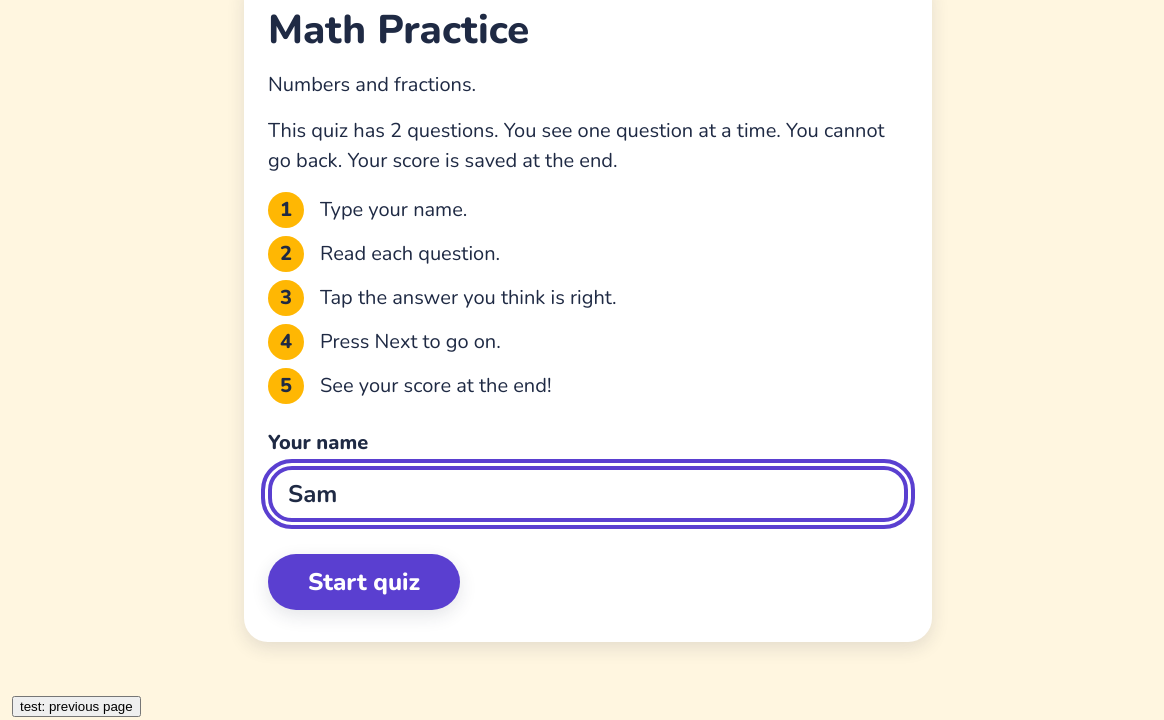
Scenario: QuestionPage › shows the server error on a failed submission, keeps the answers and can try again
Earlier steps of the test are not shown.
(page scrolled)
Click the button "Start quiz" at (364, 582), box [268,554,460,610]
(page scrolled)
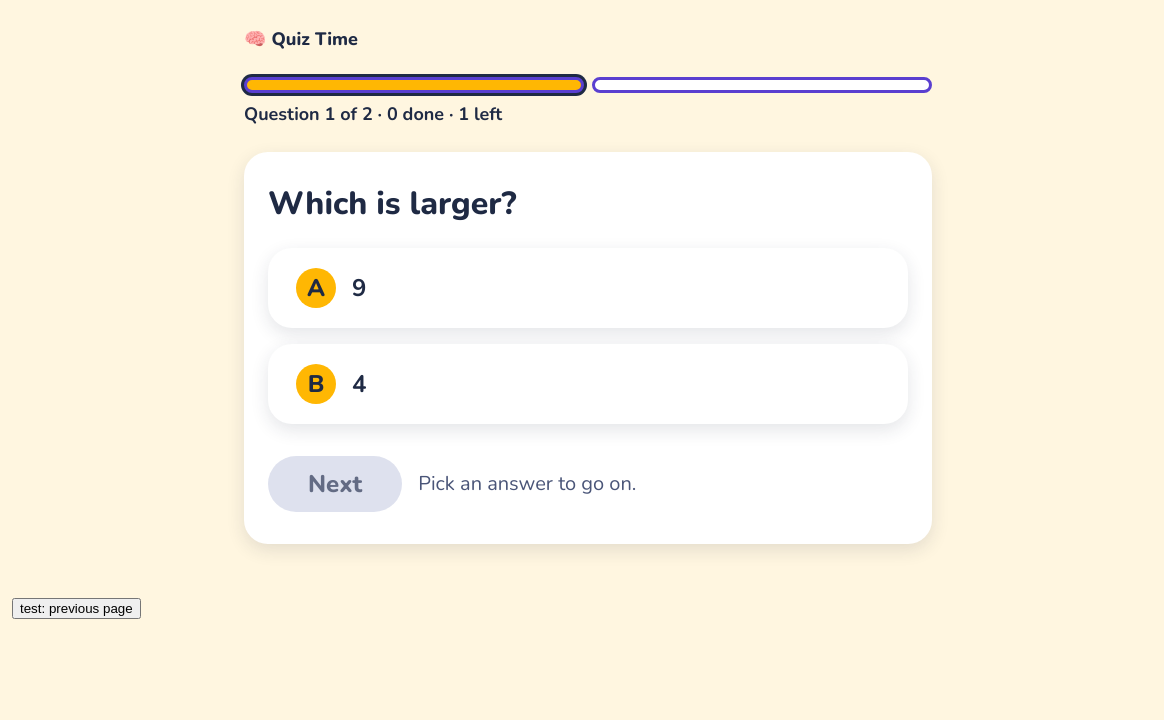
Now the text "Question 1 of 2 · 0 done · 1 left" is shown, box [244,102,502,126]
Click the radio button labelled "A 9" at (316, 288), box [268,248,908,328]
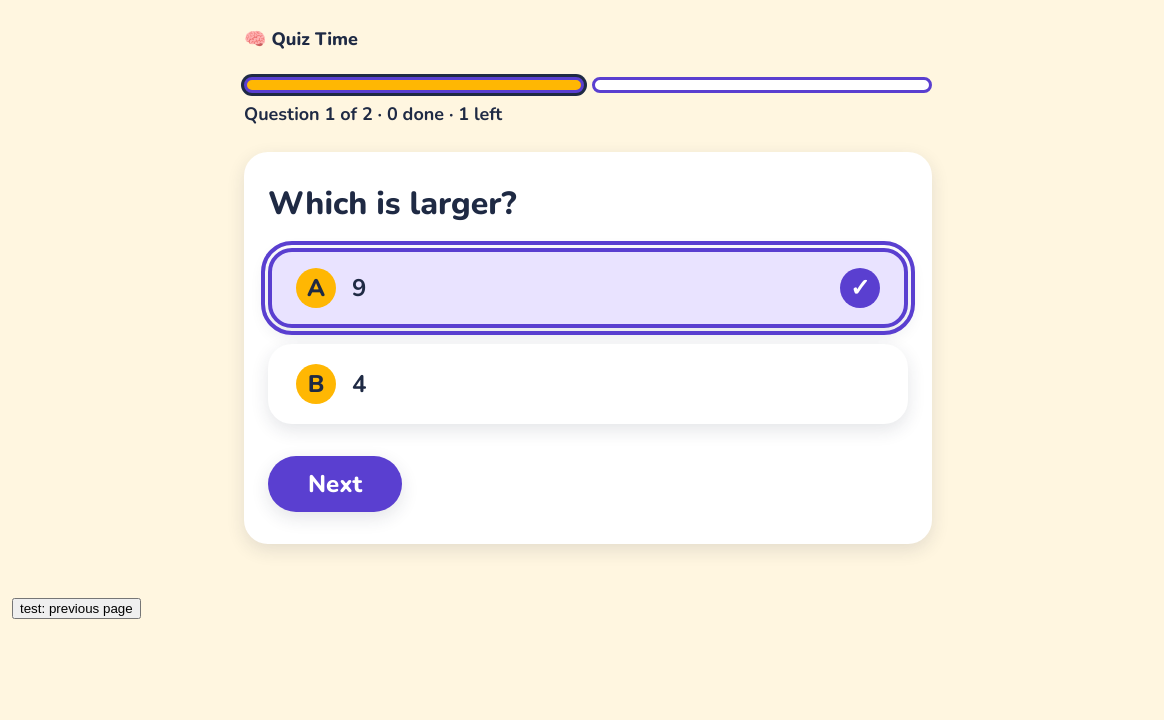
Click the button "Next" at (335, 484), box [268,456,402,512]
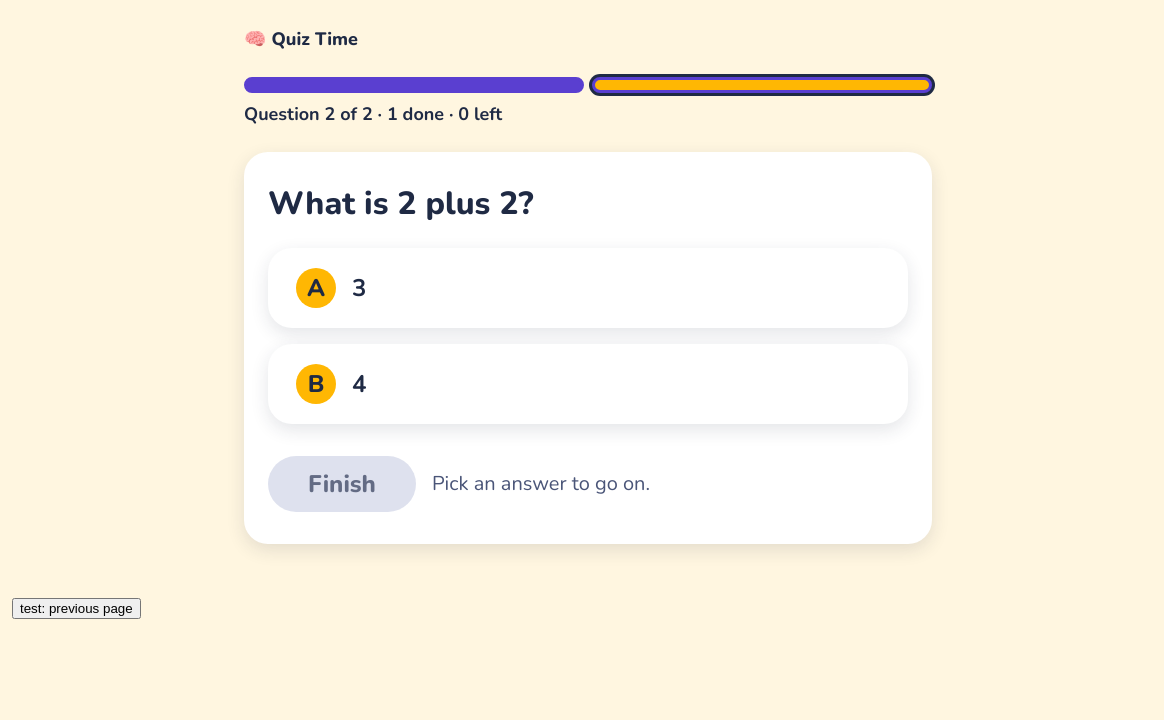
Click the radio button labelled "A 3" at (316, 288), box [268,248,908,328]
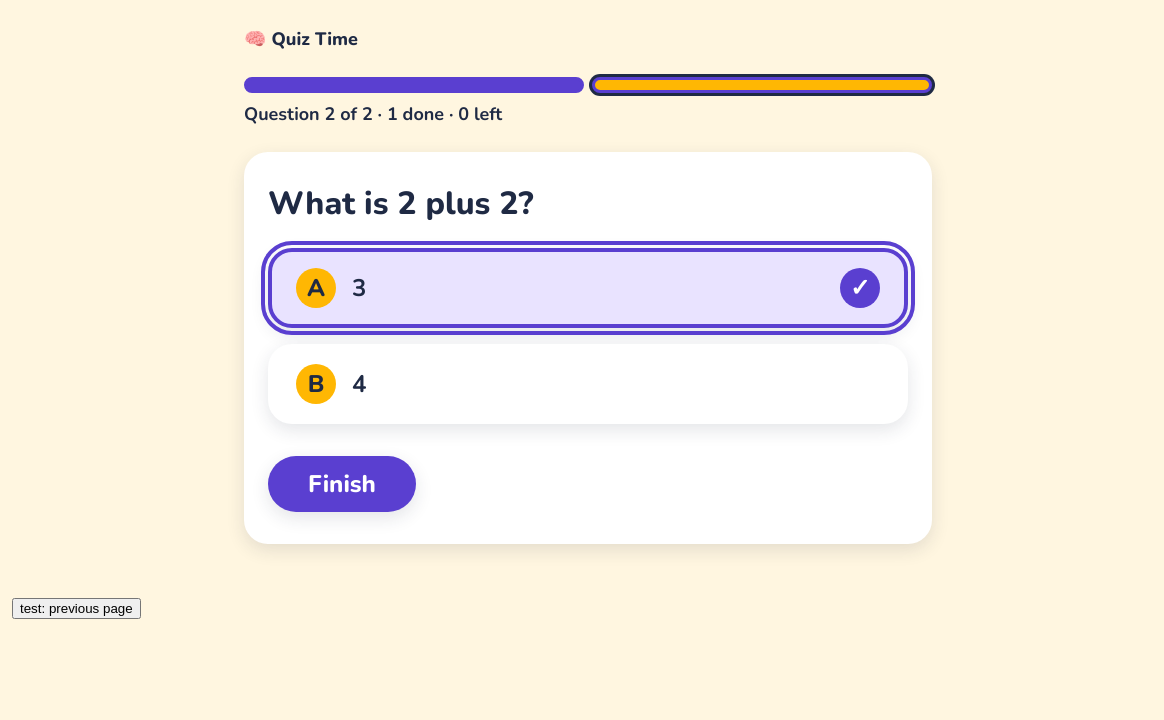
Click the button "Finish" at (342, 484), box [268,456,416,512]
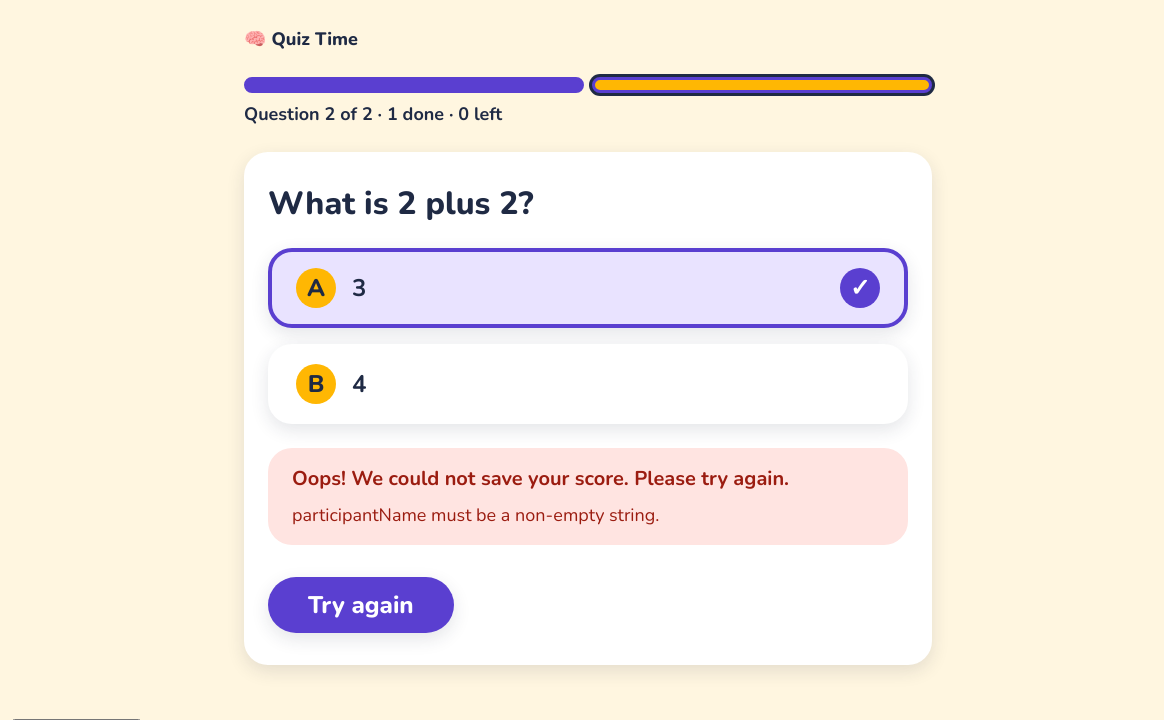
Now the radio button labelled "A 3 ✓" is checked, box [268,248,908,328]
Now the message shows "Oops! We could not save your score. Please try again.", box [292,465,789,492]
Now the message shows "participantName must be a non-empty string.", box [292,503,659,527]
Click the button "Try again" at (361, 605), box [268,577,454,633]
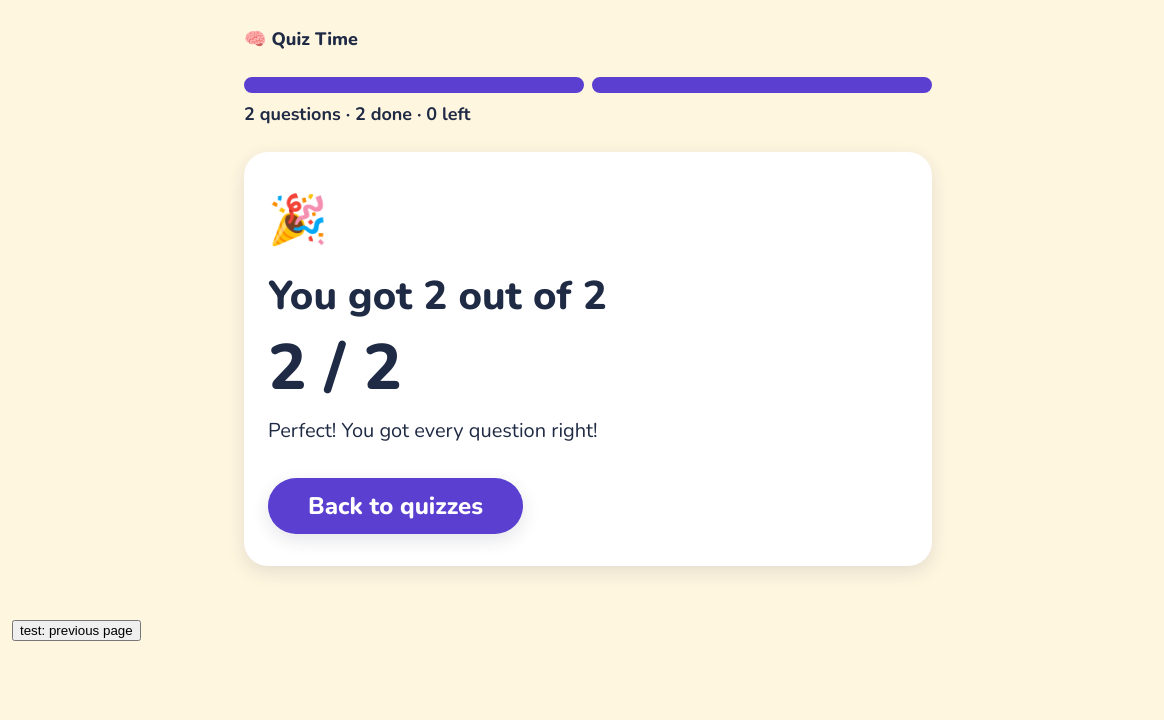
Now the heading "You got 2 out of 2" is shown, box [268,269,607,323]
